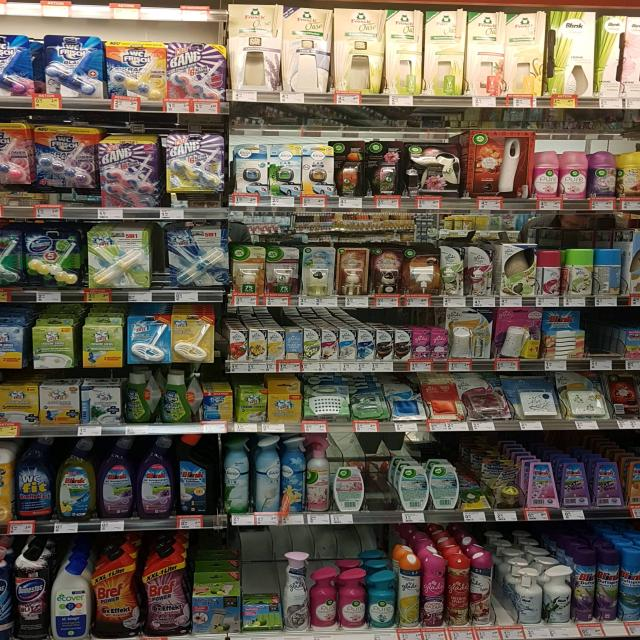unorganised: (124, 372, 193, 426), (306, 435, 332, 515), (282, 434, 306, 515), (257, 435, 279, 518), (516, 565, 542, 623), (593, 249, 624, 297), (535, 250, 564, 301)
